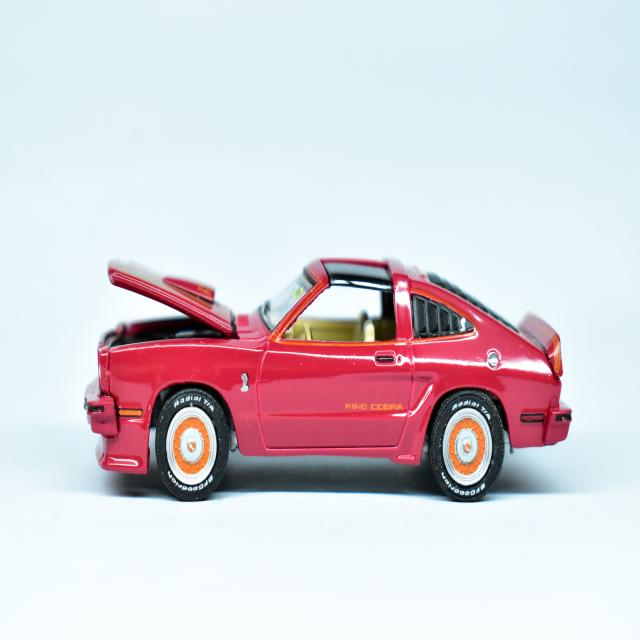Car: (85, 259, 571, 501)
